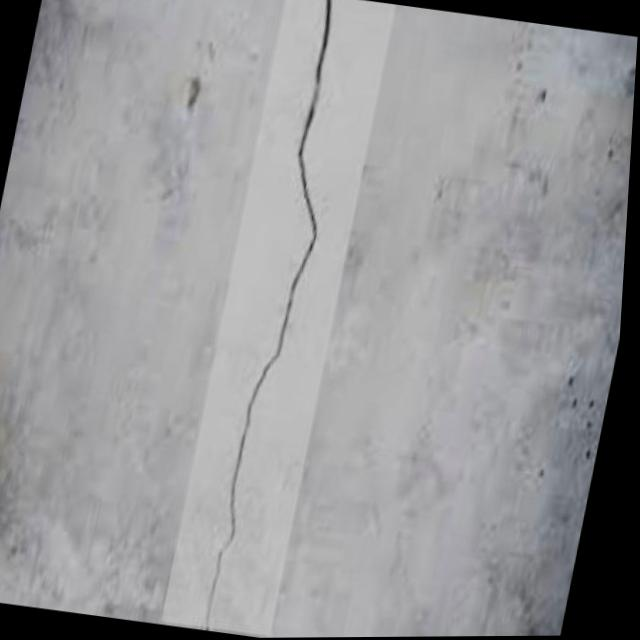Crack: (172, 0, 394, 639)
